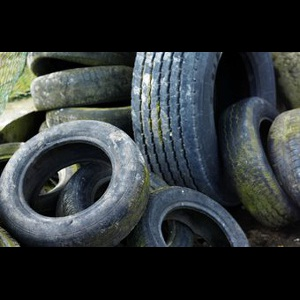tire: (130, 52, 276, 214), (1, 120, 149, 247), (56, 160, 192, 246), (221, 97, 295, 227), (131, 185, 250, 247)
